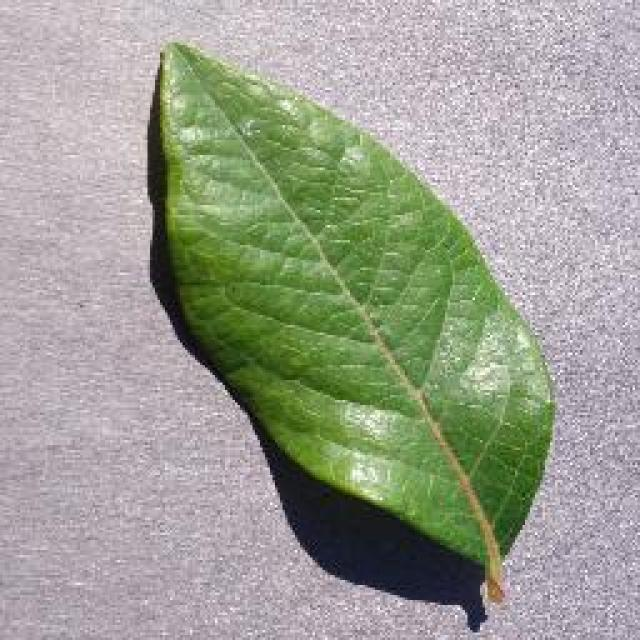Blu_healthy: (162, 127, 488, 415)
